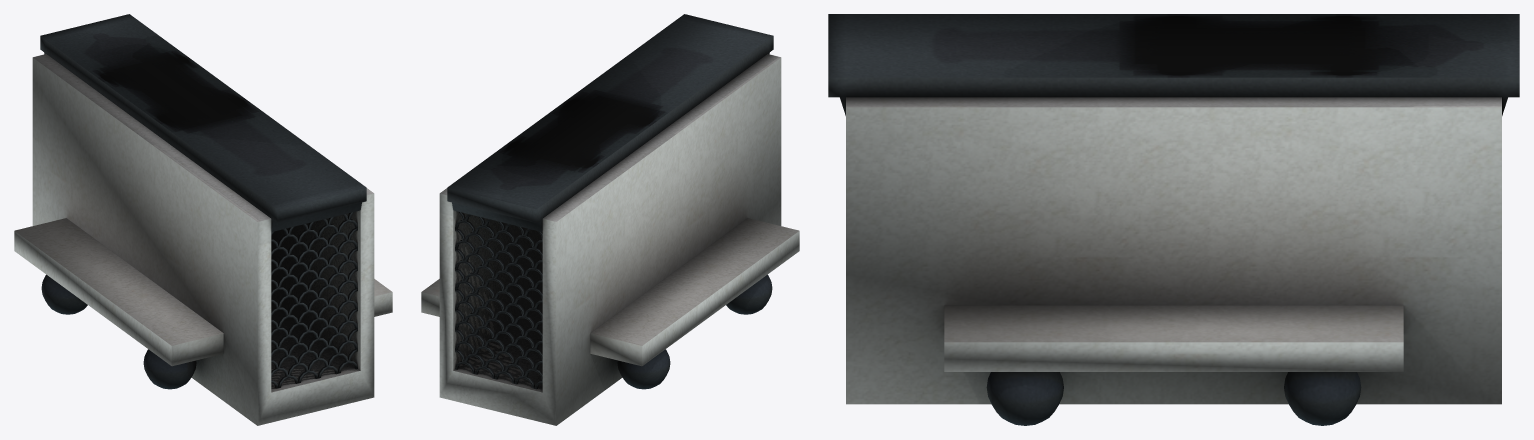
File: platform.fbx
3 views of the same model, side by side, from view 1: azimuth 30°, elevation 25°; view 2: azimuth 150°, elevation 25°; view 3: azimuth 270°, elevation 25° (orthographic). The views are drawn at different scales.
Visible parts, largest first — view 1: platform; view 2: platform; view 3: platform.
Boxes of the visible parts, x1=… form: platform: x1=14, y1=14, x2=392, y2=425; platform: x1=421, y1=14, x2=799, y2=425; platform: x1=828, y1=14, x2=1519, y2=425.
Size of the model in its own units: 170 by 160 by 316.
